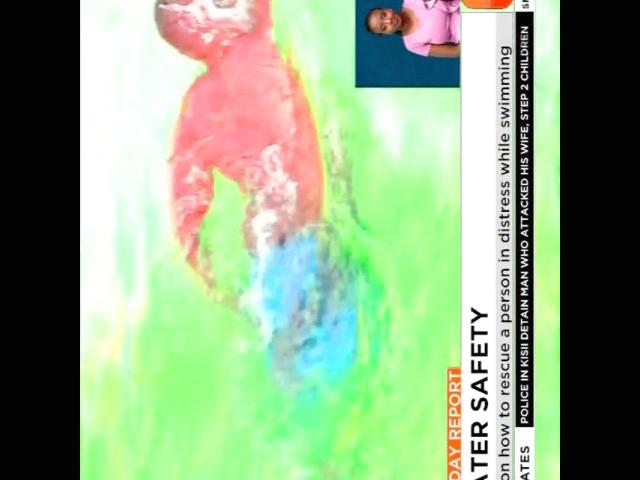swimming: (119, 0, 371, 444)
